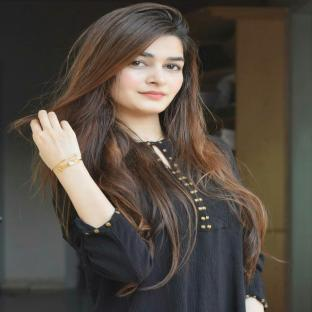Human: (11, 3, 279, 312)
